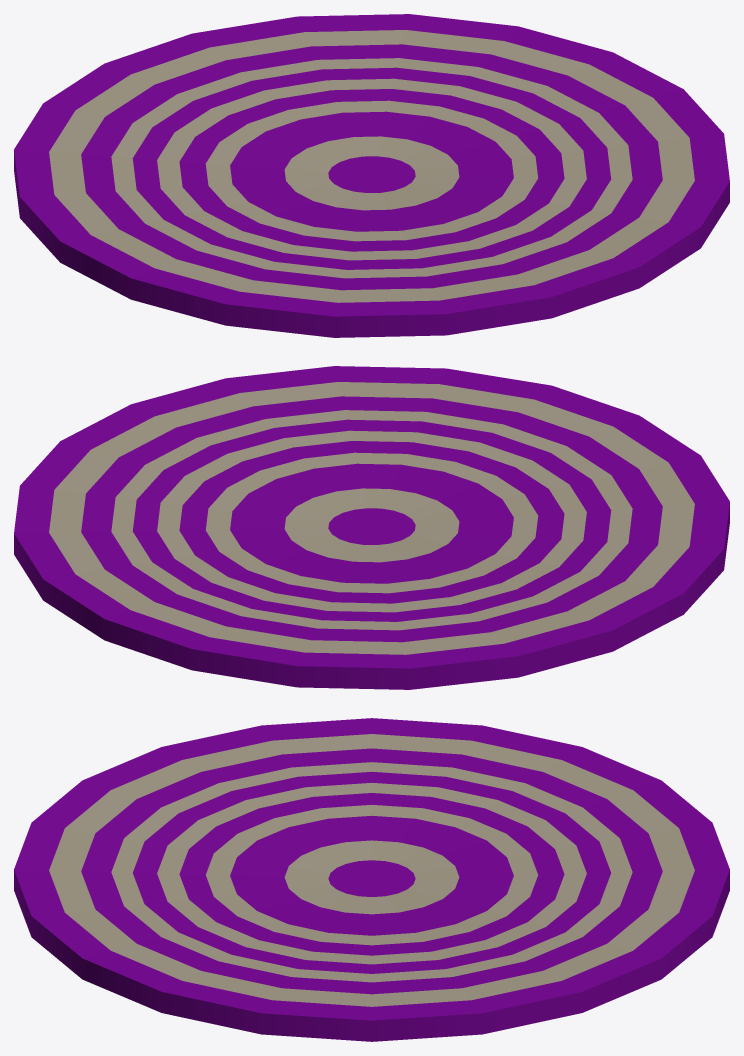
The model's file is Onion.fbx.
3 views of the same model, one above another, from view 1: azimuth 30°, elevation 25°; view 2: azimuth 150°, elevation 25°; view 3: azimuth 270°, elevation 25° (orthographic).
Visible parts, largest first — view 1: pCylinder1; view 2: pCylinder1; view 3: pCylinder1.
Boxes of the visible parts, box(x1,y1,x2,y2) form: pCylinder1: box(14, 14, 729, 337); pCylinder1: box(14, 366, 729, 689); pCylinder1: box(14, 718, 729, 1041).
Size of the model in its own units: 5.04 by 0.1647 by 5.04.
